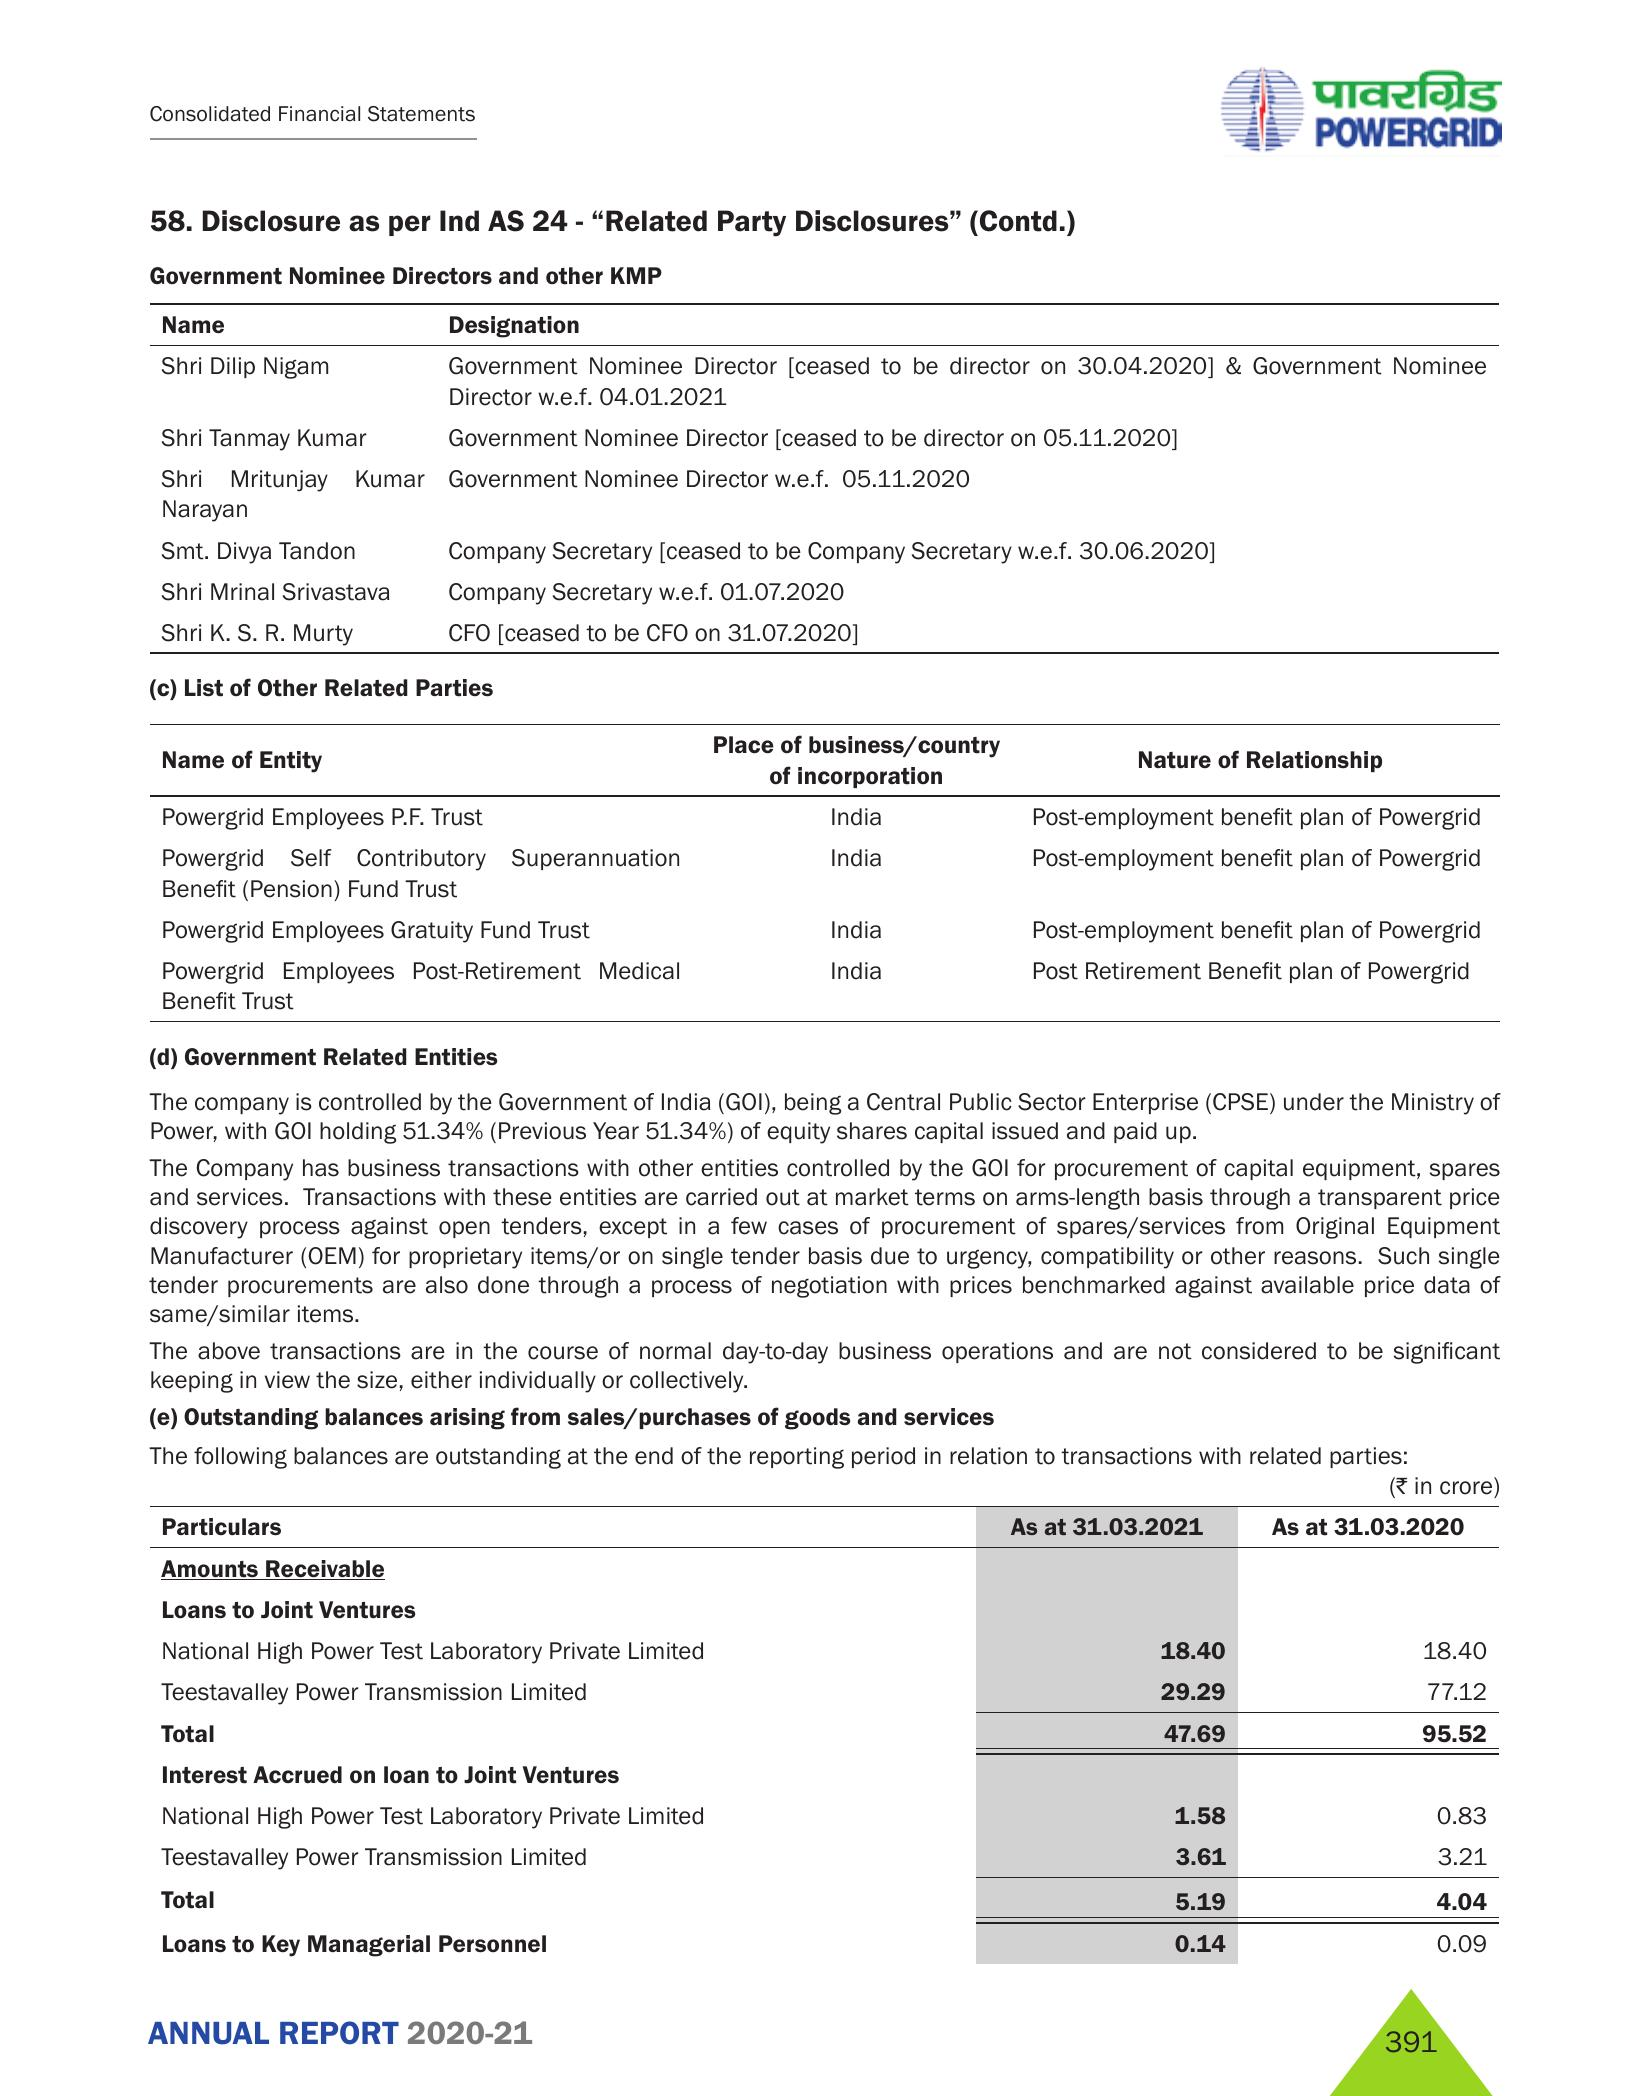Footer: (0, 1968, 1650, 2096)
Header: (0, 0, 1650, 168)
Table: (126, 1499, 1536, 1965), (111, 298, 1545, 658), (117, 723, 1548, 1034)
